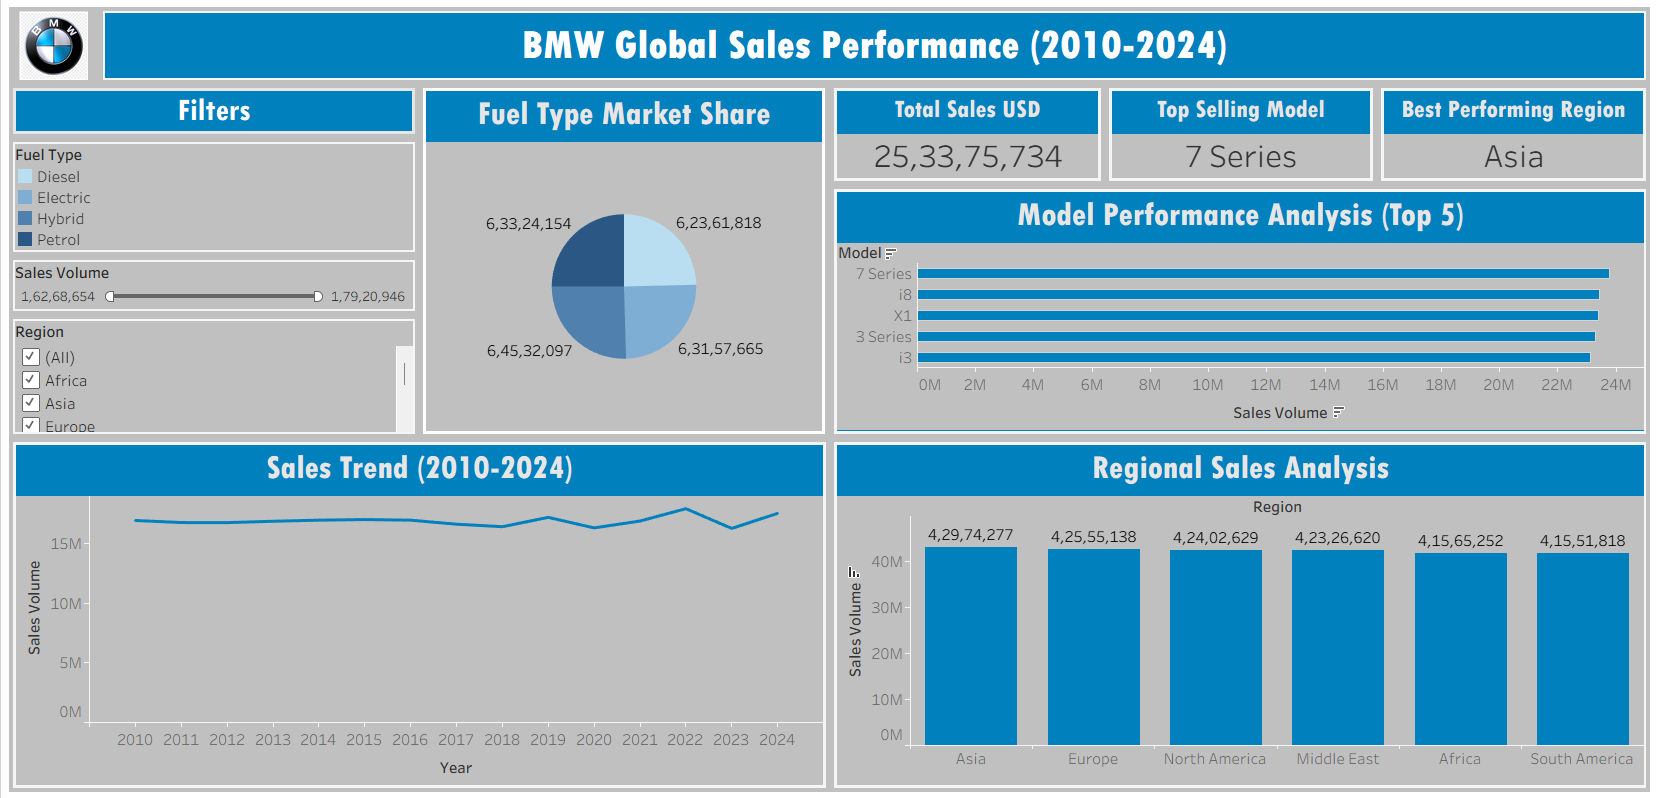

This screenshot's page, from the dashboard's own definition file:
{"tool":"tableau","page":{"name":"Dashboard 1","canvas":[1000,1000],"units":"permille","ordinal":0},"visuals":[{"type":"image","param":"Image/download.jpg","box":[4.8,10,54.2,96]},{"type":"text","box":[59.1,10,936.1,96]},{"type":"text","box":[4.8,106,247.5,67.4]},{"type":"worksheet","title":"Fuel Type Market Share","mark":"Pie","box":[252.3,106,247.7,441.9]},{"type":"worksheet","title":"Total Sales USD","mark":"Automatic","box":[500,106,166.2,126.1]},{"type":"worksheet","title":"Top Selling Model","mark":"Automatic","box":[666.2,106,164.2,126.1]},{"type":"worksheet","title":"Best Performing Region","mark":"Automatic","box":[830.3,106,164.8,126.1]},{"type":"legend","title":"Fuel Type Market Share","param":"[federated.1qfxvew05be9o51g0iojm0yfnf4y].[none:Fuel_Type:nk]","box":[4.8,173.4,247.5,100.3]},{"type":"worksheet","title":"Model Performance Analysis (Top 5)","mark":"Automatic","rows":["Model"],"cols":["Sales_Volume"],"box":[500,232.1,495.2,315.8]},{"type":"filter","title":"Sales Trend (2010-2024)","param":"[federated.1qfxvew05be9o51g0iojm0yfnf4y].[sum:Sales_Volume:qk]","box":[4.8,273.7,247.5,73.7]},{"type":"filter","title":"Model Performance Analysis (Top 5)","param":"[federated.1qfxvew05be9o51g0iojm0yfnf4y].[none:Model:nk]","box":[4.8,347.3,247.5,100.3]},{"type":"filter","title":"Regional Sales Analysis","param":"[federated.1qfxvew05be9o51g0iojm0yfnf4y].[none:Region:nk]","box":[4.8,447.6,247.5,100.3]},{"type":"worksheet","title":"Sales Trend (2010-2024)","mark":"Automatic","rows":["Sales_Volume"],"cols":["Year"],"box":[4.8,547.9,495.2,442.1]},{"type":"worksheet","title":"Regional Sales Analysis","mark":"Automatic","rows":["Sales_Volume"],"cols":["Region"],"box":[500,547.9,495.2,442.1]}]}

Visuals, with their boxes on the dashboard's canvas, which has no fixed pixel size, in thousandths of its width and height (x1, y1, x2, y2). These are canvas units, not pixel positions in the 1658x798 screenshot, which may show the page scaled, cropped or inside an application window:
image: <bbox>5, 10, 59, 106</bbox>
text: <bbox>59, 10, 995, 106</bbox>
text: <bbox>5, 106, 252, 173</bbox>
"Fuel Type Market Share" worksheet (Pie marks): <bbox>252, 106, 500, 548</bbox>
"Total Sales USD" worksheet: <bbox>500, 106, 666, 232</bbox>
"Top Selling Model" worksheet: <bbox>666, 106, 830, 232</bbox>
"Best Performing Region" worksheet: <bbox>830, 106, 995, 232</bbox>
"Fuel Type Market Share" legend: <bbox>5, 173, 252, 274</bbox>
"Model Performance Analysis (Top 5)" worksheet: <bbox>500, 232, 995, 548</bbox>
"Sales Trend (2010-2024)" filter: <bbox>5, 274, 252, 347</bbox>
"Model Performance Analysis (Top 5)" filter: <bbox>5, 347, 252, 448</bbox>
"Regional Sales Analysis" filter: <bbox>5, 448, 252, 548</bbox>
"Sales Trend (2010-2024)" worksheet: <bbox>5, 548, 500, 990</bbox>
"Regional Sales Analysis" worksheet: <bbox>500, 548, 995, 990</bbox>
